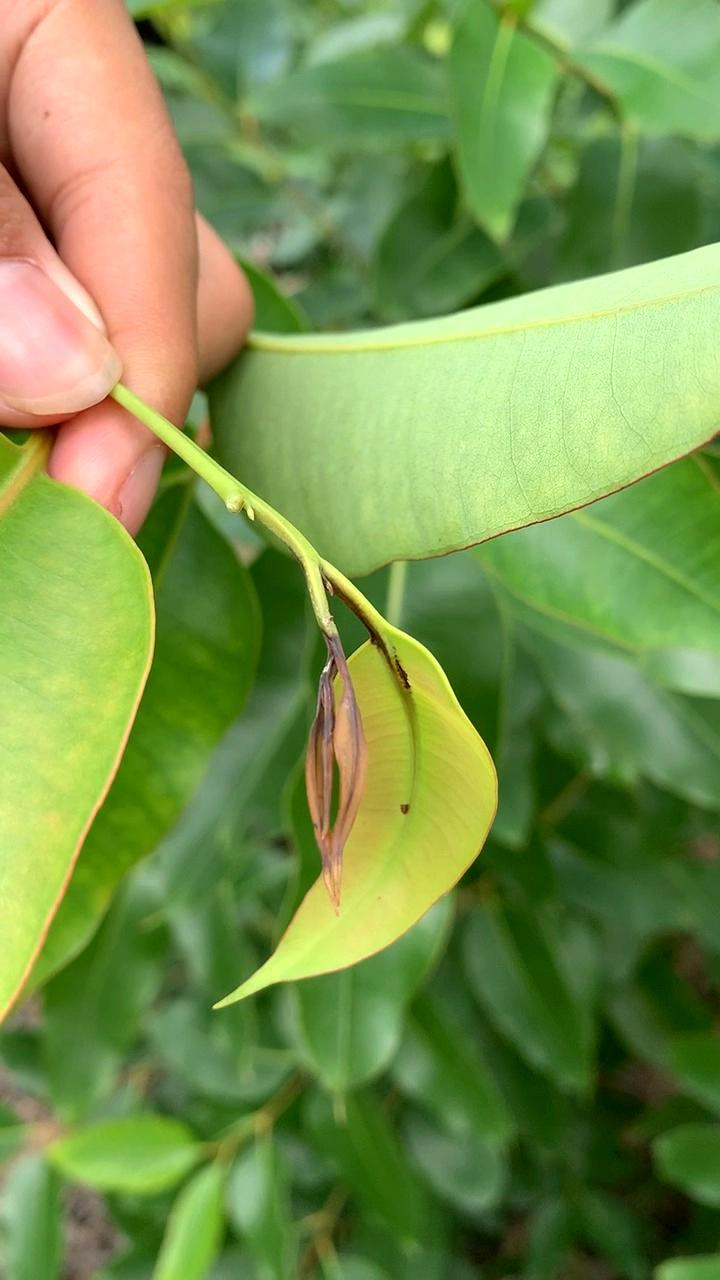Helopeltis-Withered Sprout: (275, 626, 383, 939)
